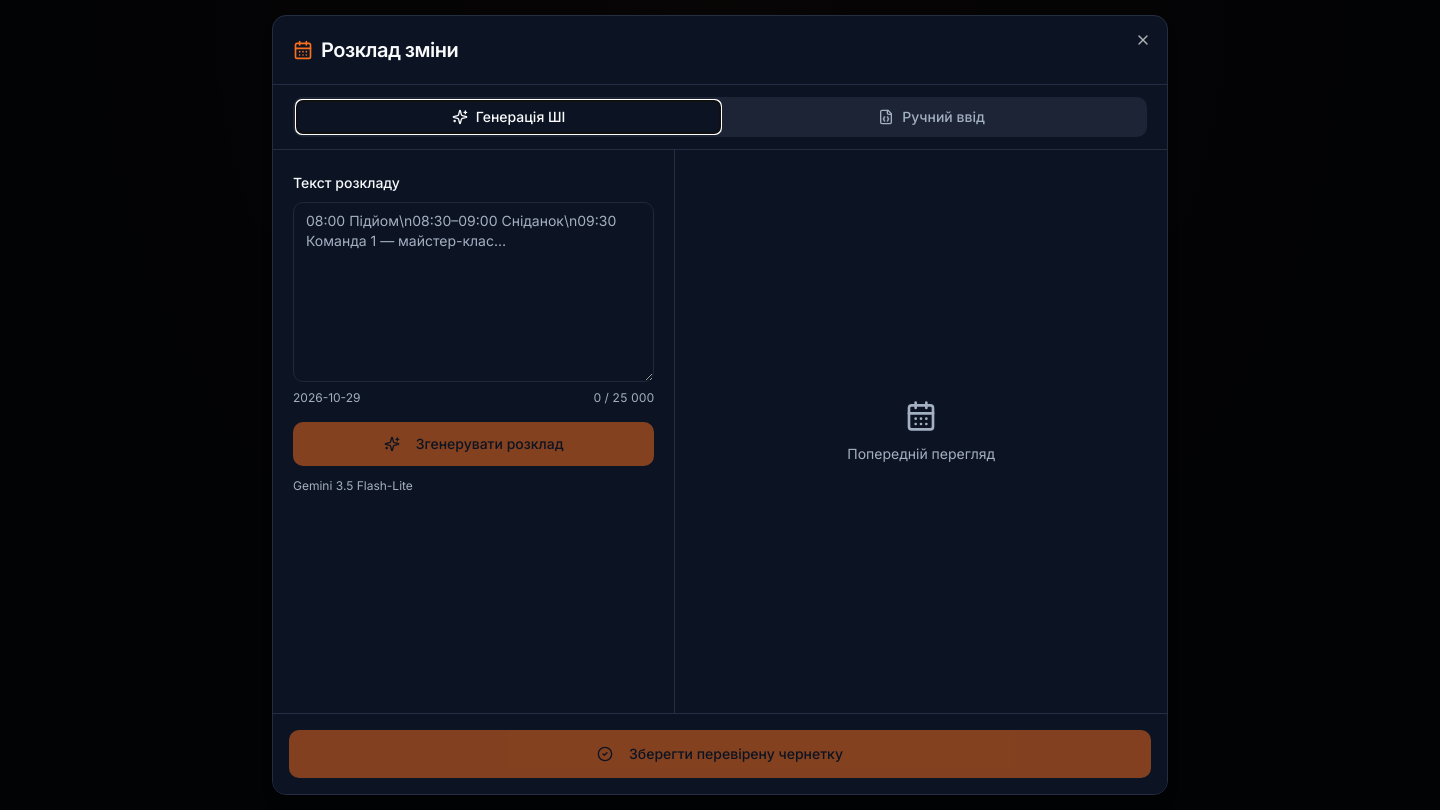
admin schedule preview flow › does not retain failed partial generation as an importable document
The width and height of the screenshot is (1440, 810).
Replace the text in the text box labelled "Текст розкладу" with "10:00 Гра" at (474, 292), box [293,202,654,382]
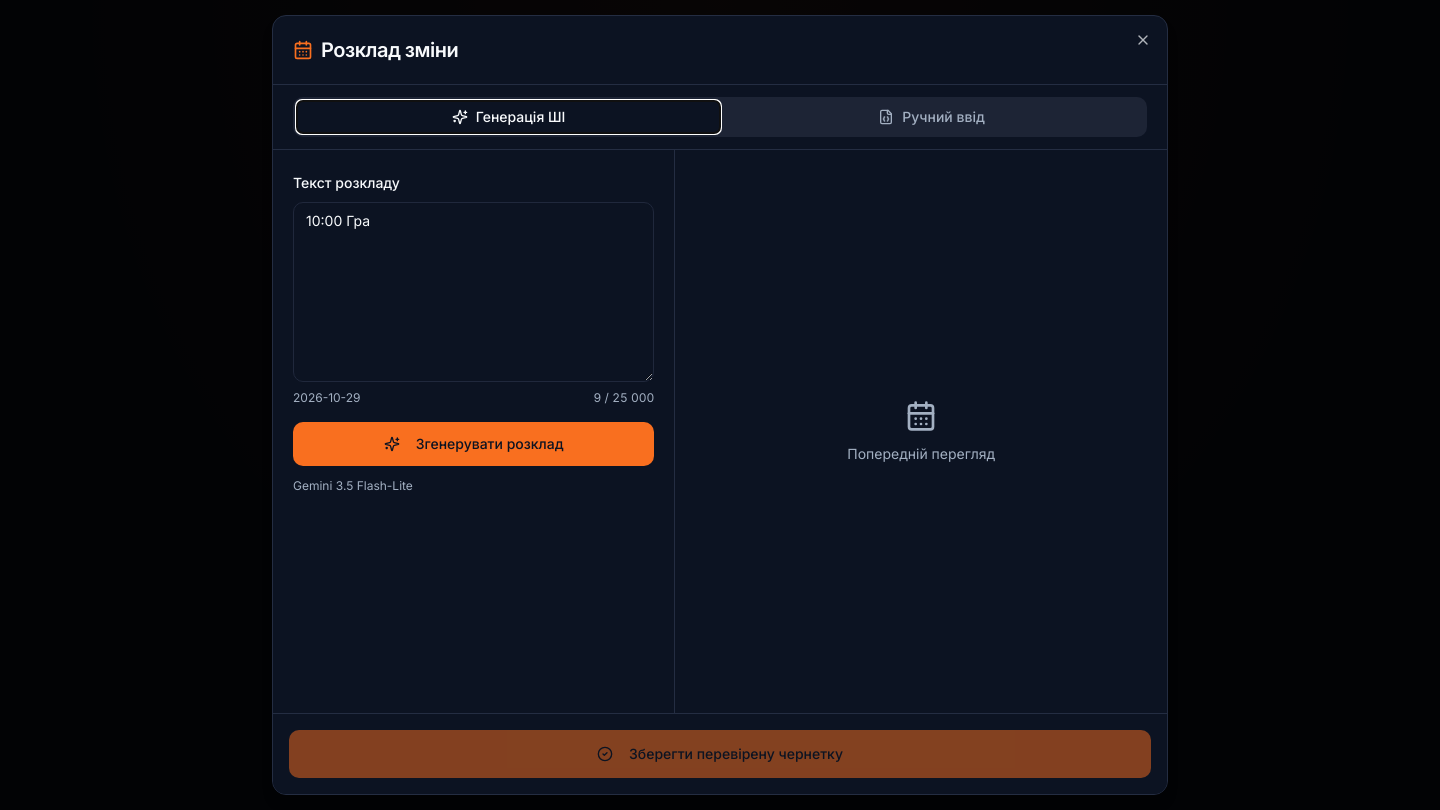
Click the button "Згенерувати розклад" at (474, 444), box [293,422,654,466]
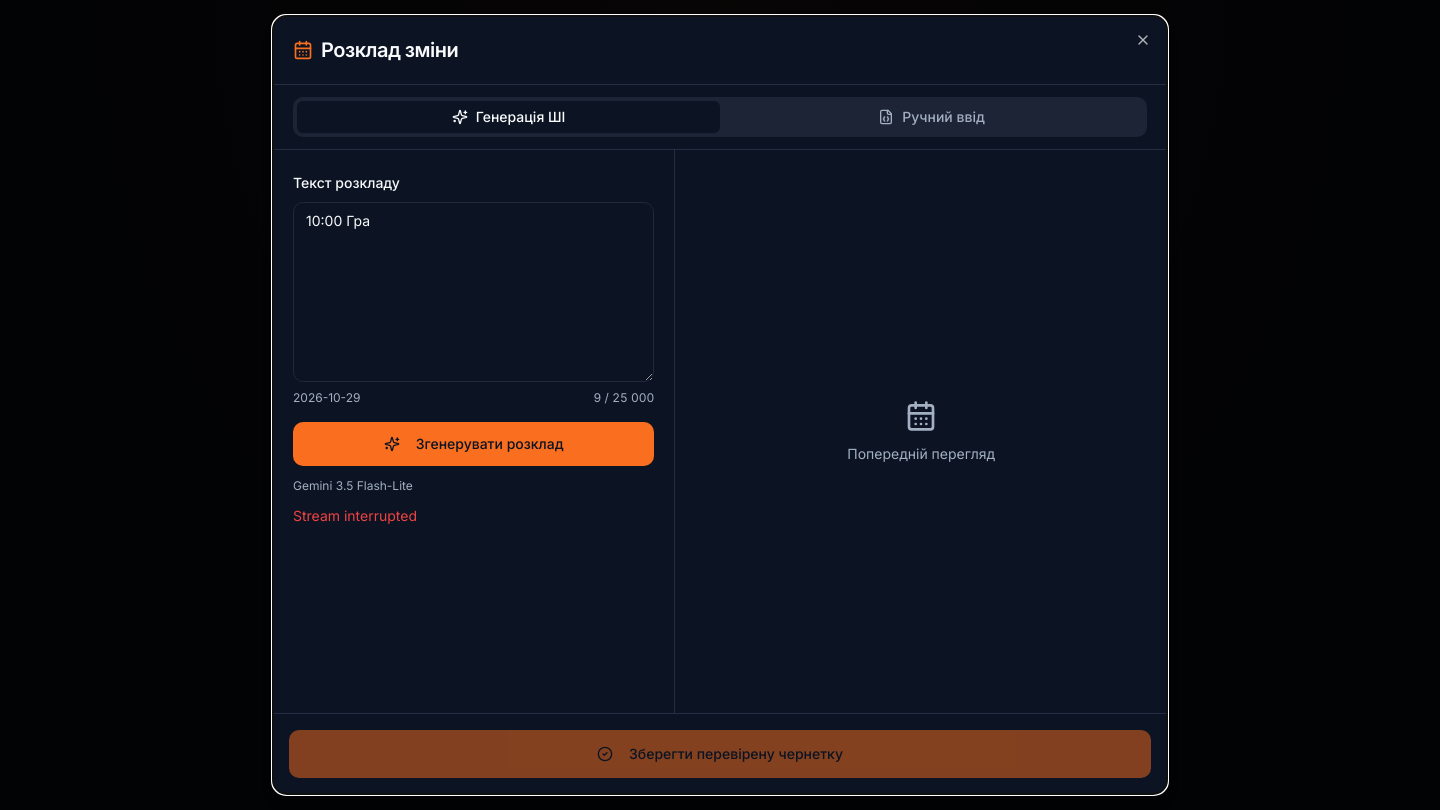
Expected: the button "Зберегти перевірену чернетку" is disabled, [289,730,1151,778]
Expected: the message reads "Stream interrupted", [293,507,417,524]
